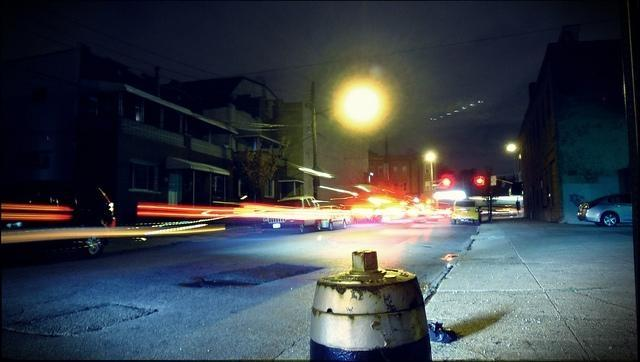car: (2, 181, 118, 260), (262, 196, 321, 231), (578, 194, 632, 228), (316, 206, 354, 231), (450, 199, 481, 226), (351, 208, 384, 223)
